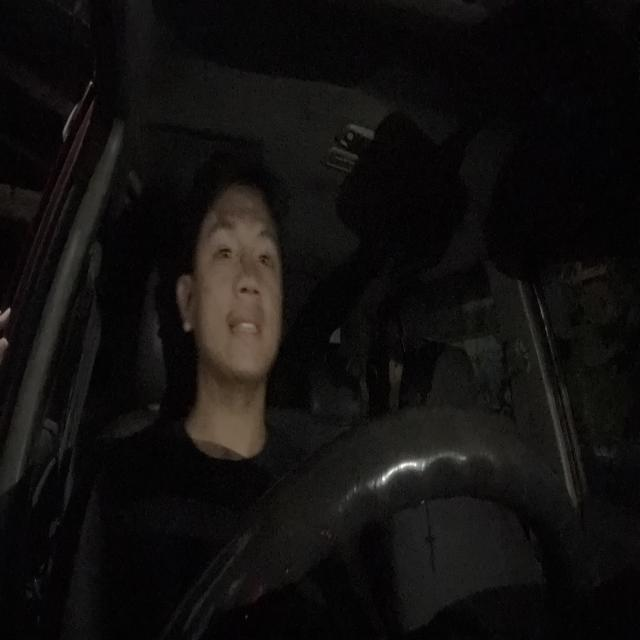open: (208, 213, 238, 274), (256, 225, 277, 276)
